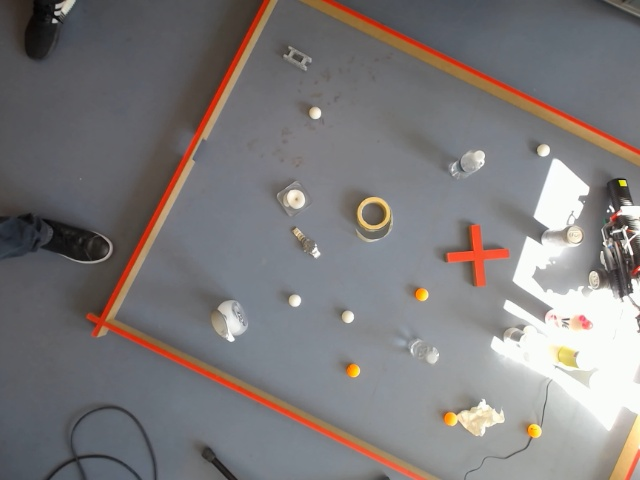orange: (211, 308, 226, 338), (413, 287, 431, 303), (345, 363, 361, 379), (443, 411, 457, 427), (527, 424, 541, 439)
robot: (600, 171, 640, 404)
robot-front: (24, 13, 58, 61)
white: (458, 148, 488, 177), (425, 346, 441, 367), (534, 142, 552, 159), (287, 293, 303, 310), (340, 309, 356, 325), (307, 105, 323, 121), (589, 270, 599, 285)
